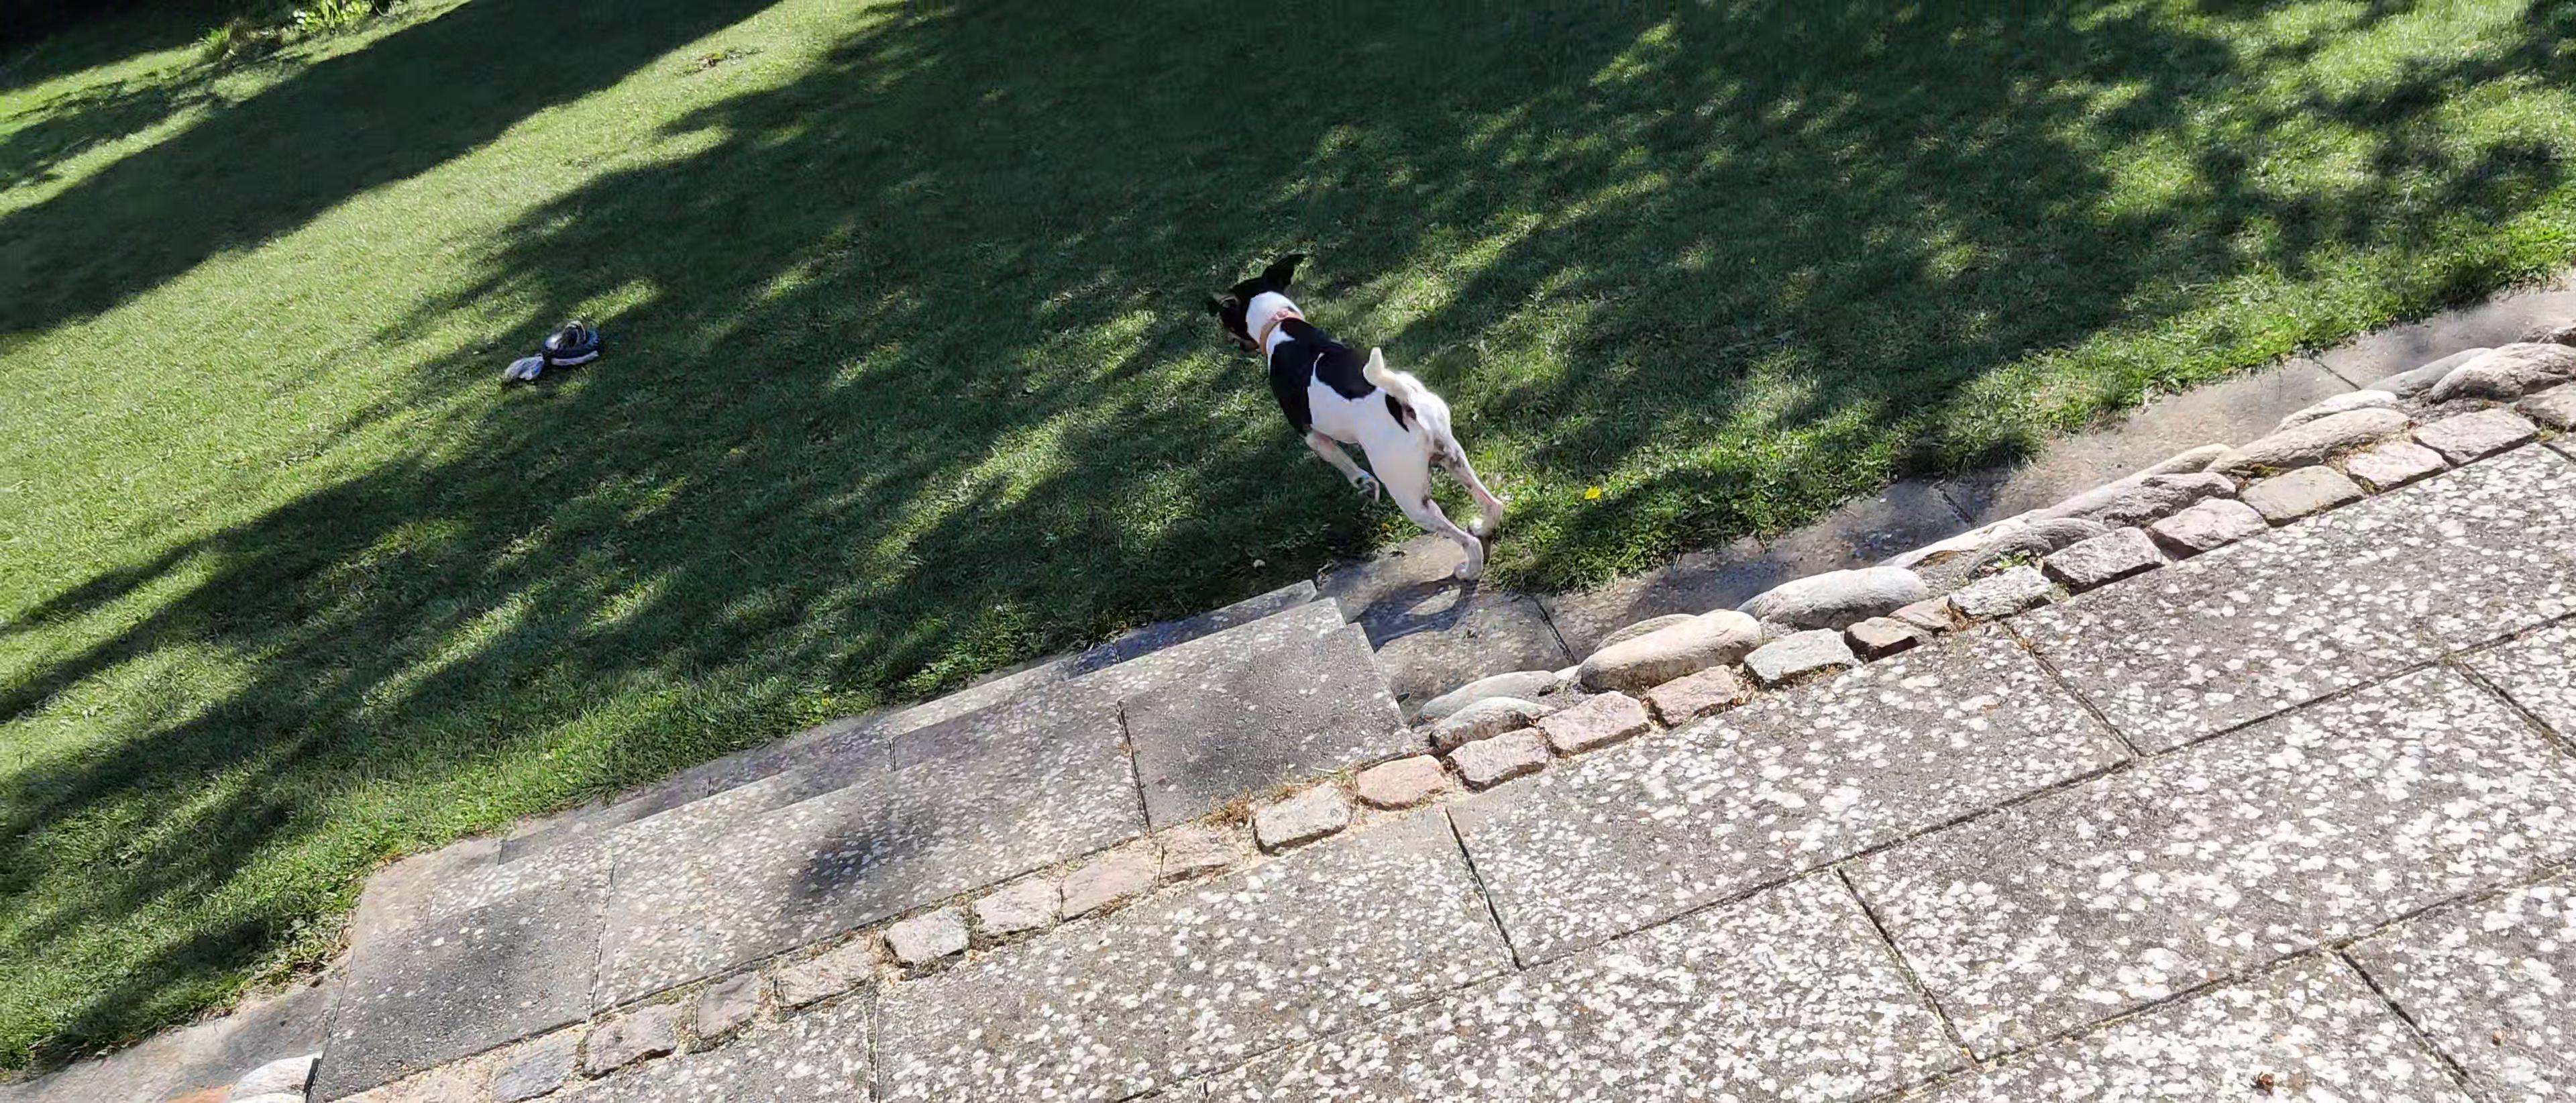Dog: (1196, 248, 1510, 587)
